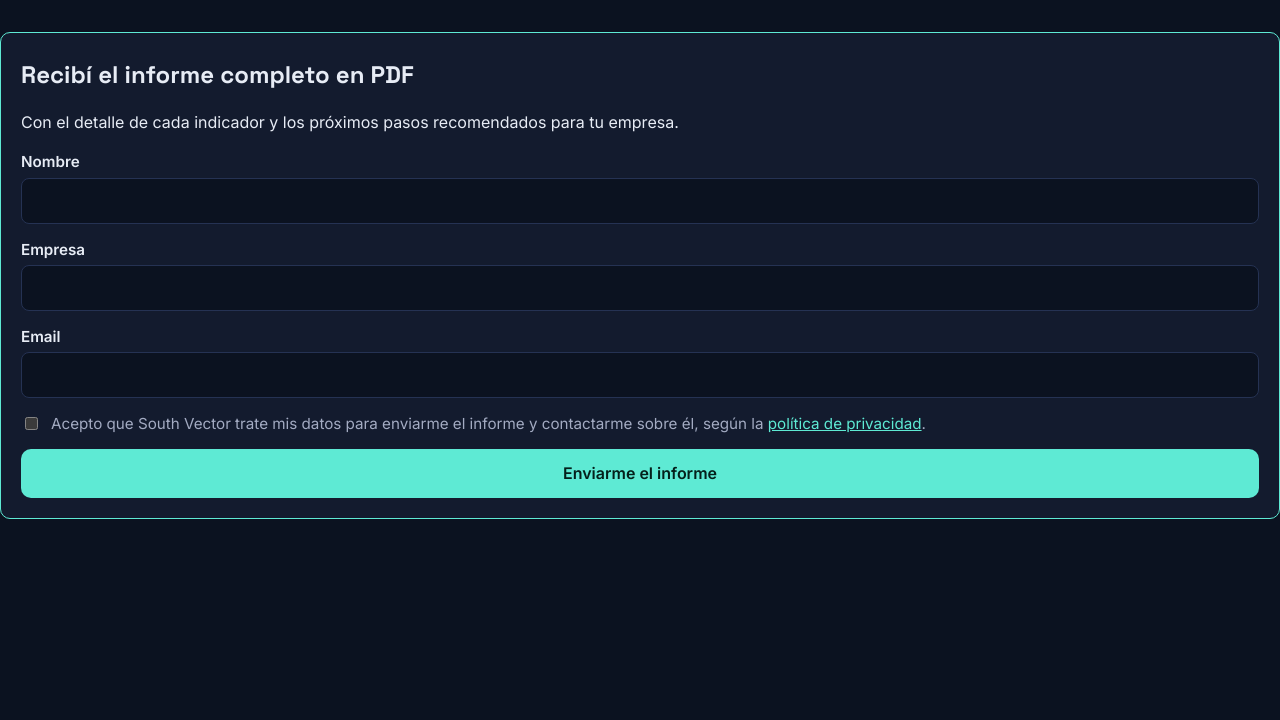
PedidoInforme › avisa si no hay conexión
Type "Ana" into the field labelled "Nombre" at coordinates (640, 201), box [21,178,1259,224]
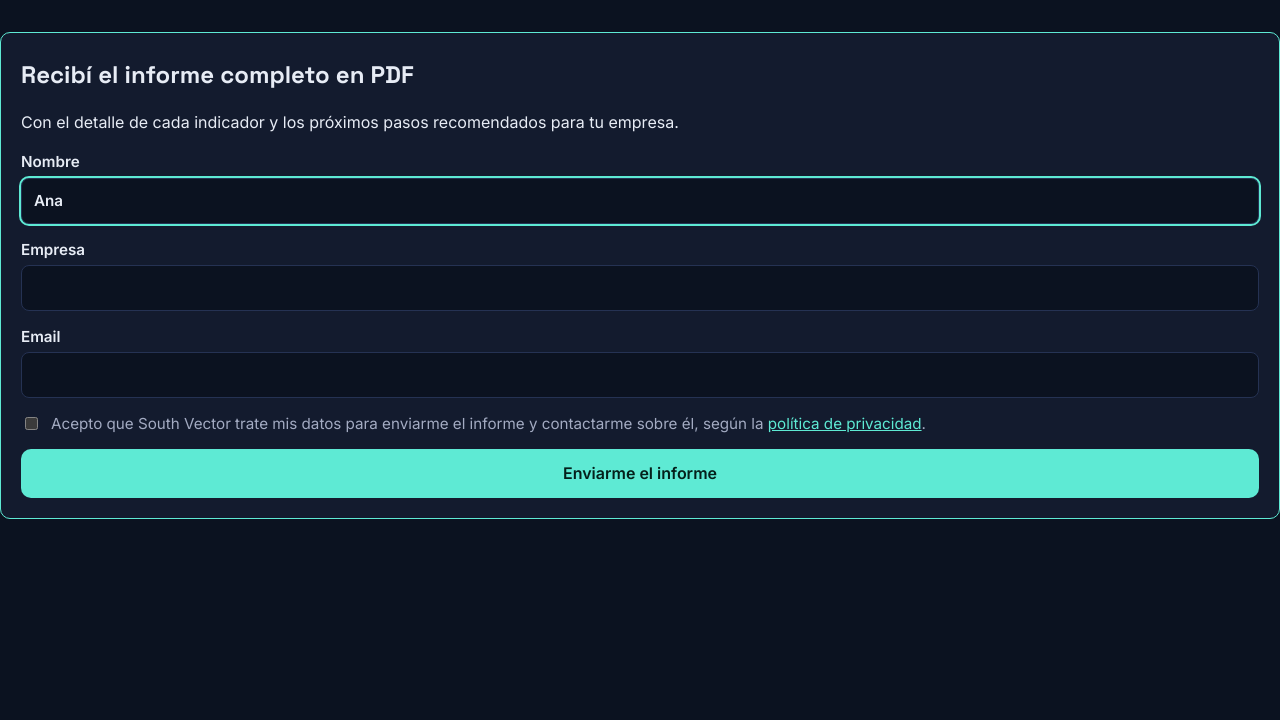
Type "ACME" into the field labelled "Empresa" at coordinates (640, 288), box [21,265,1259,311]
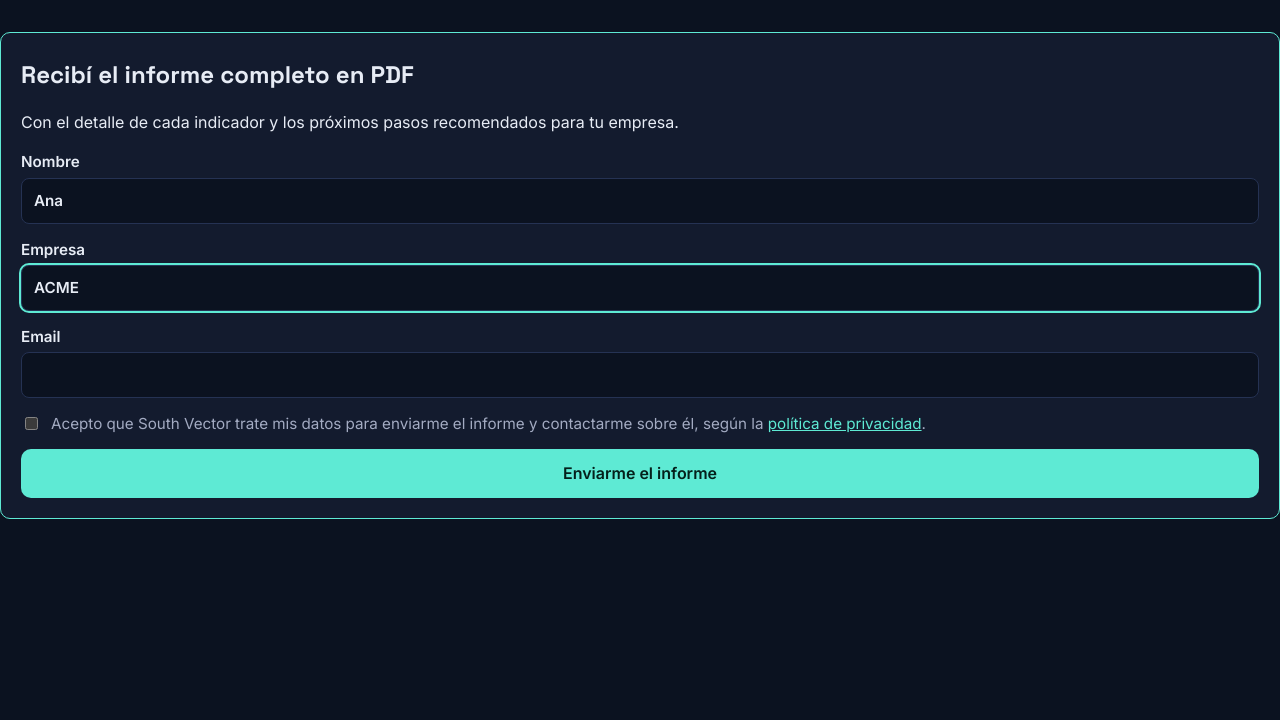
Type "ana@acme.com" into the field labelled "Email" at coordinates (640, 375), box [21,352,1259,398]
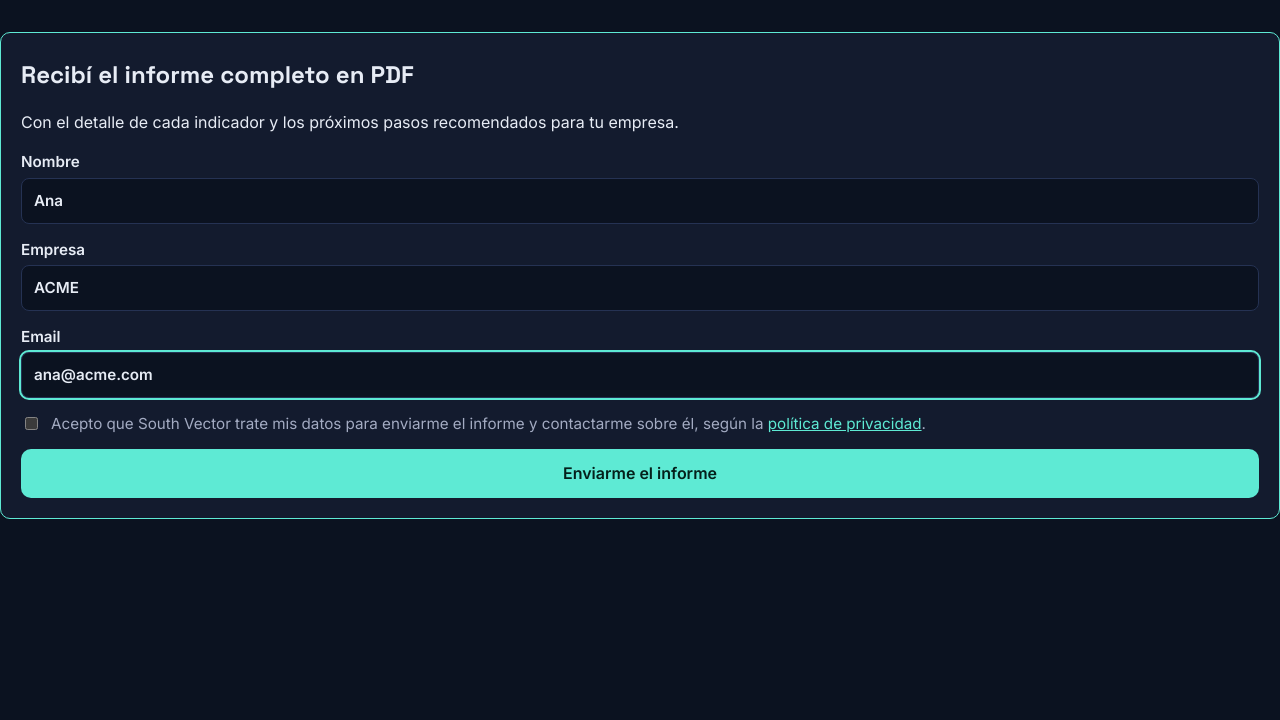
Click the checkbox at coordinates (32, 423), box [25,417,38,430]
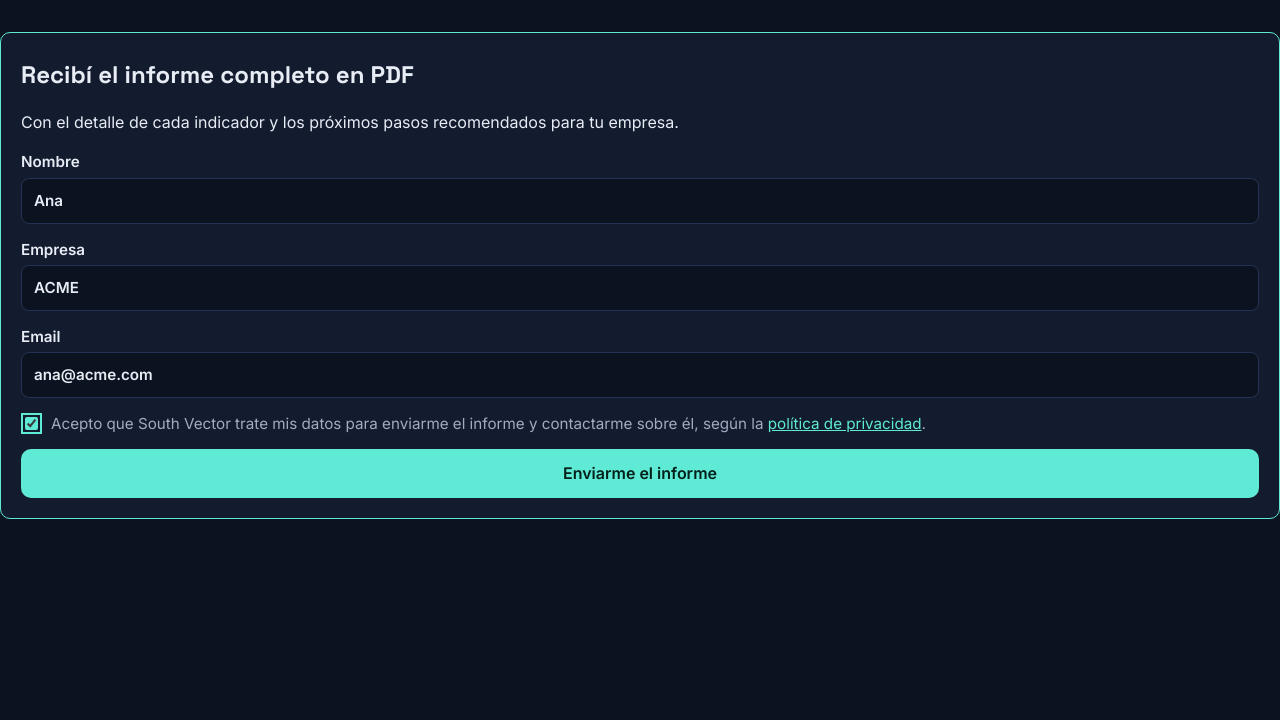
Click the button "Enviarme el informe" at coordinates (640, 474), box [21,449,1259,498]
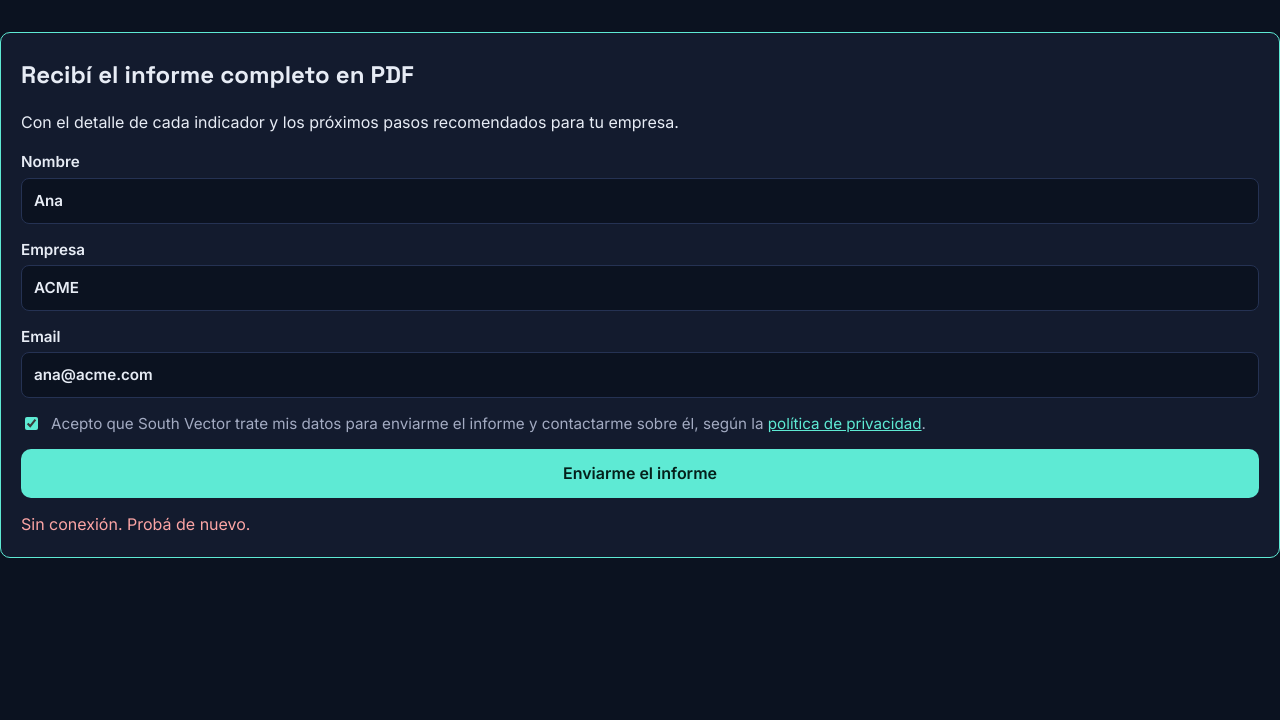
Result: the message shows "Sin conexión" at [21,514,250,534]
